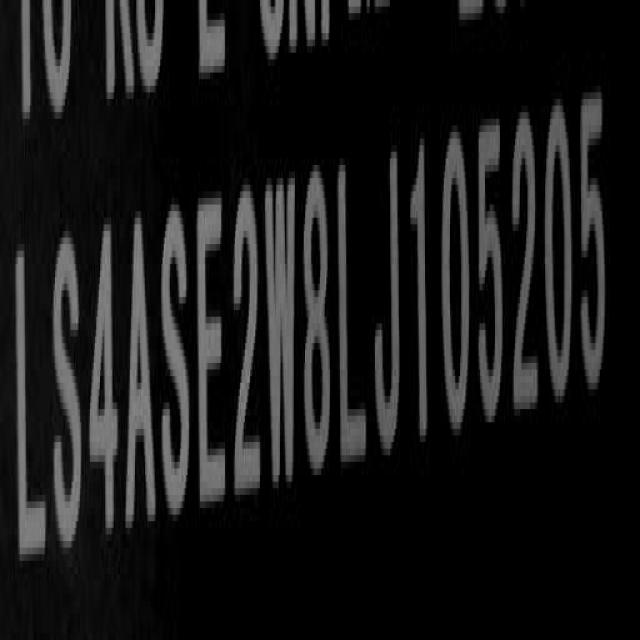0: (441, 113, 471, 444), (548, 86, 575, 412)
1: (410, 126, 433, 454)
2: (513, 99, 542, 431), (233, 172, 260, 517)
4: (90, 219, 122, 552)
5: (477, 96, 505, 433), (582, 70, 610, 398)
8: (304, 163, 333, 488)
A: (126, 202, 160, 542)
E: (192, 181, 232, 518)
J: (371, 134, 405, 467)
L: (333, 152, 370, 472), (14, 237, 48, 555)
S: (158, 198, 192, 523), (51, 228, 83, 562)
W: (260, 174, 302, 494)
